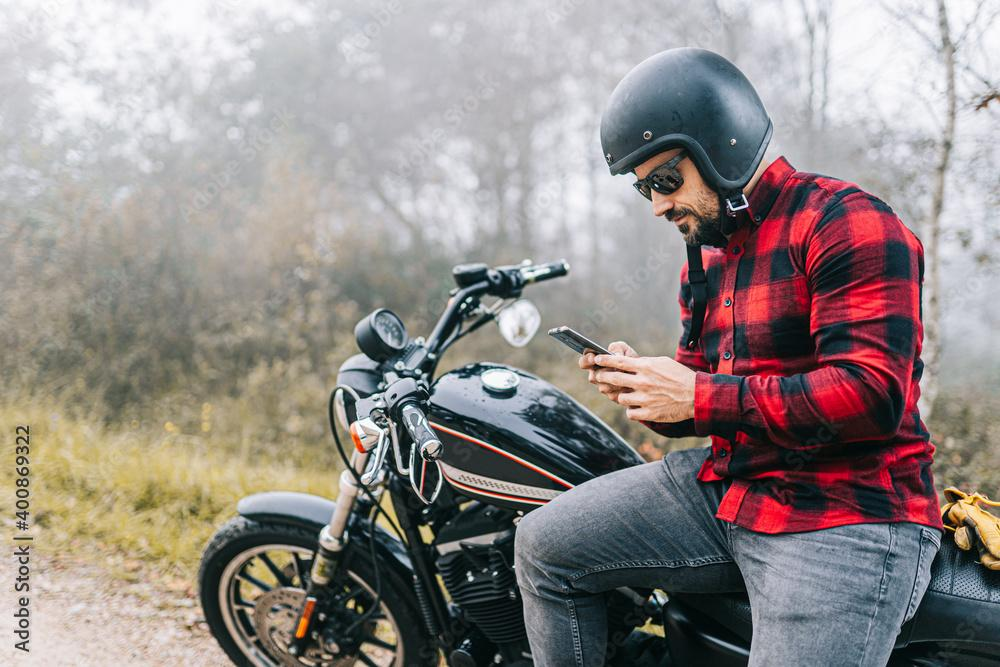helmet: (599, 46, 774, 247)
